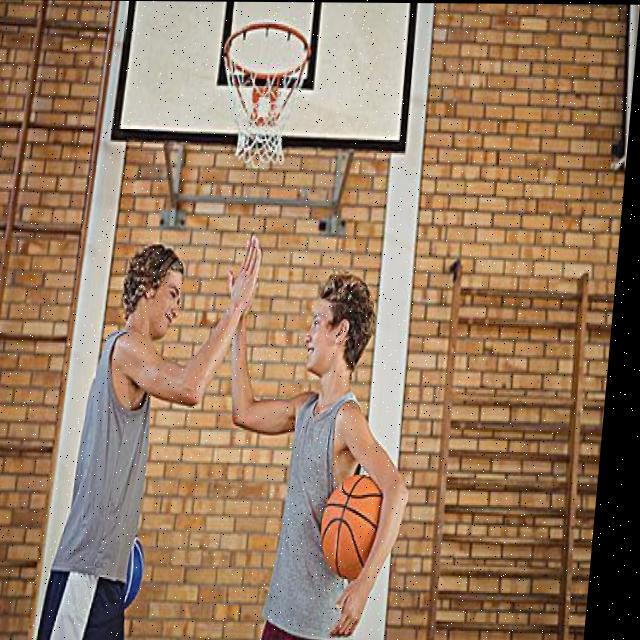basketball: (317, 474, 386, 577)
hoop: (216, 24, 314, 167)
